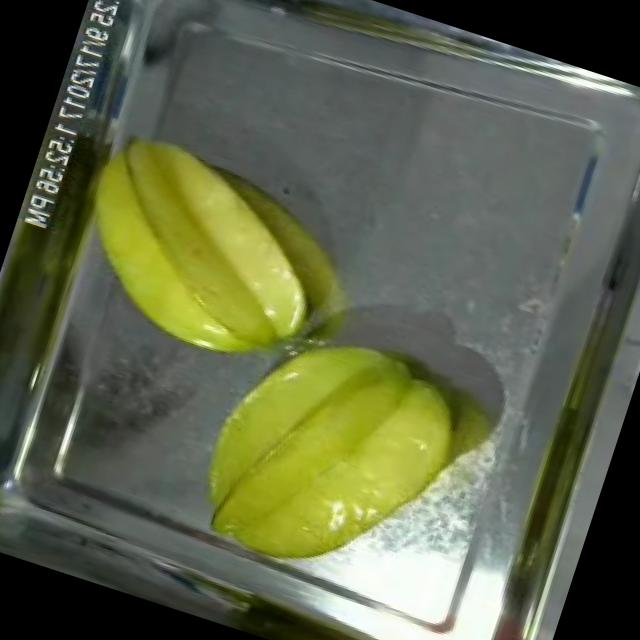fruit: (163, 290, 493, 620), (41, 111, 356, 392)
